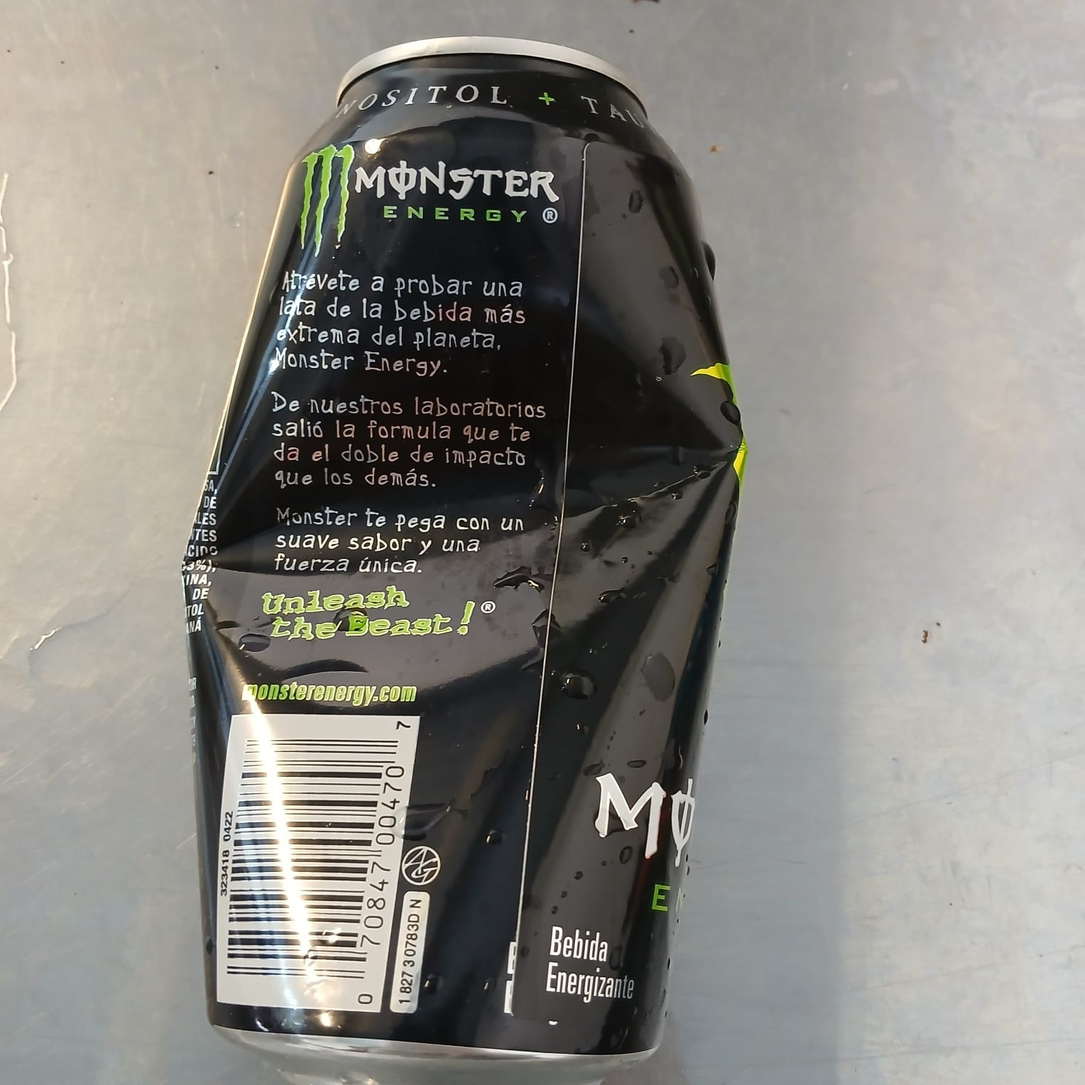Metal: (182, 36, 745, 1082)
